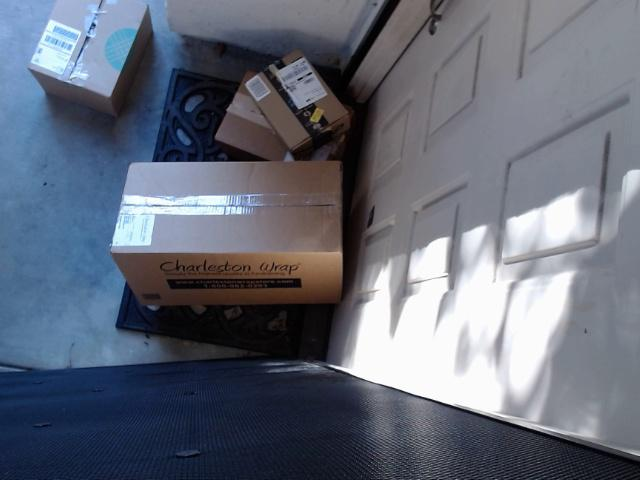box: (104, 146, 369, 328), (0, 0, 173, 129), (200, 43, 372, 172), (238, 56, 357, 143)
